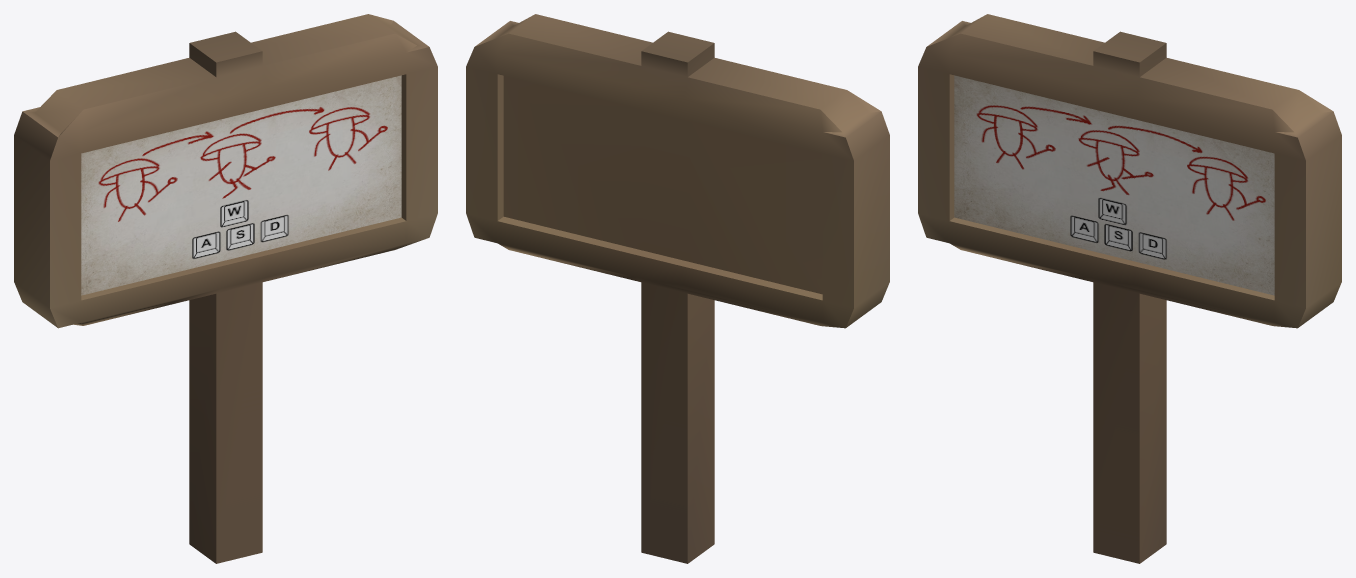
Rendered from tabela.fbx.
The picture shows the model from 3 angles, left to right: view 1: azimuth 30°, elevation 25°; view 2: azimuth 150°, elevation 25°; view 3: azimuth 330°, elevation 25°; orthographic projection.
Visible parts, largest first — view 1: Object_3; view 2: Object_3; view 3: Object_3.
Part boxes in pixels (x1=…): Object_3: x1=14, y1=14, x2=437, y2=563; Object_3: x1=466, y1=14, x2=889, y2=563; Object_3: x1=918, y1=14, x2=1341, y2=563.
Bounding box in the file's own units: 335 × 414 × 53.52.
